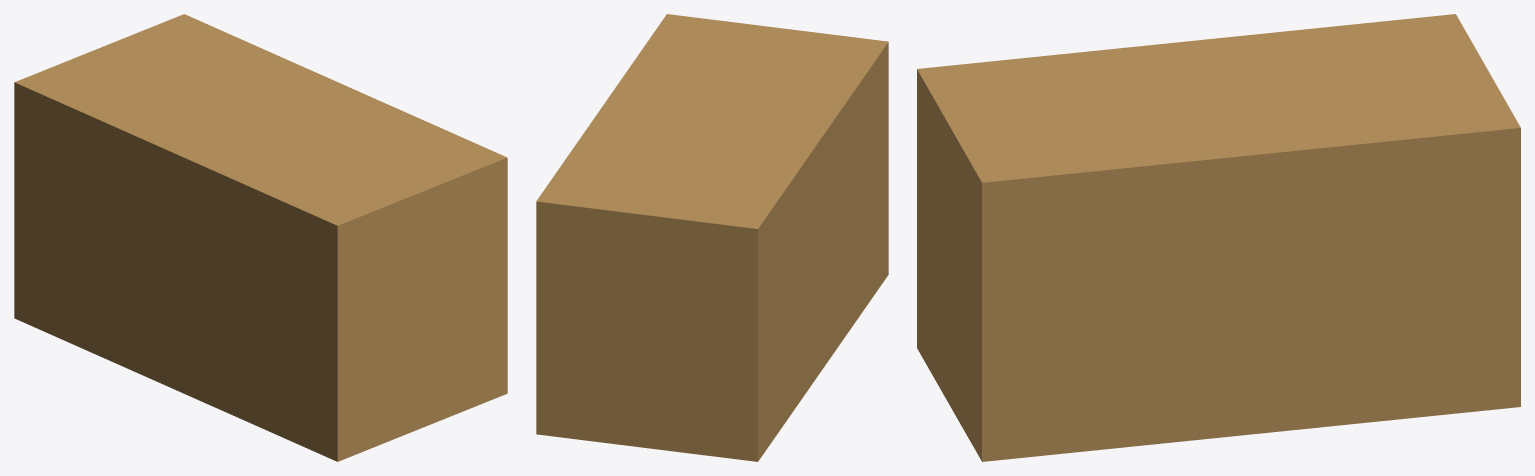
3 renders of one model, left to right at view 1: azimuth 30°, elevation 25°; view 2: azimuth 150°, elevation 25°; view 3: azimuth 270°, elevation 25°, orthographic. The views are drawn at different scales.
Parts seen in each view (by area): view 1: GAP-11-L-king_stud-p3; view 2: GAP-11-L-king_stud-p3; view 3: GAP-11-L-king_stud-p3.
Part boxes in pixels (x1,y1,x2,y2): GAP-11-L-king_stud-p3: (14, 14, 507, 461); GAP-11-L-king_stud-p3: (536, 14, 888, 461); GAP-11-L-king_stud-p3: (917, 14, 1520, 461).
Bounding box in the file's own units: 0.0649 × 0.05 × 0.0981.
